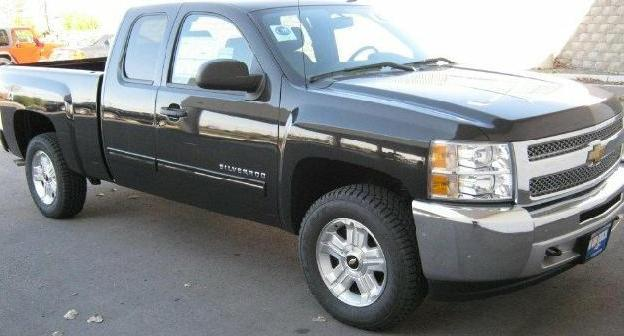front_view: (419, 103, 623, 286)
headlight: (426, 133, 522, 212)
side_glass: (127, 15, 280, 107)
